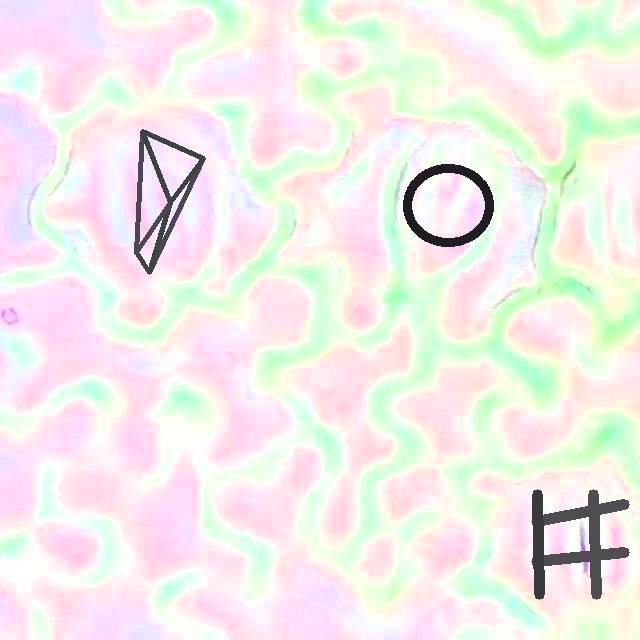close: (134, 129, 205, 274), (402, 163, 493, 248)
open: (532, 489, 628, 598)
